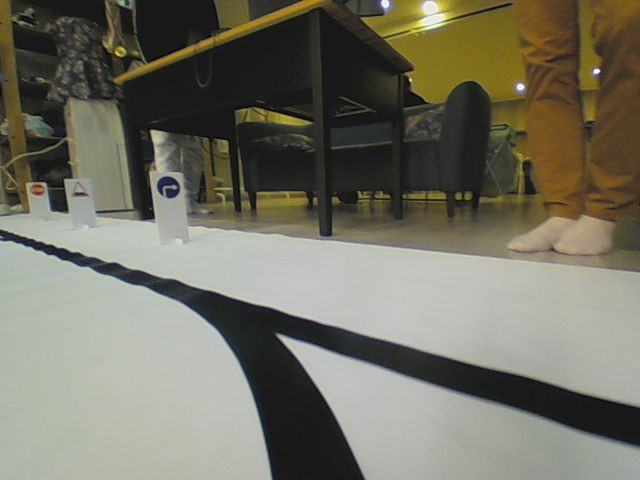Nerov: (69, 181, 89, 199)
Right: (155, 175, 181, 199)
